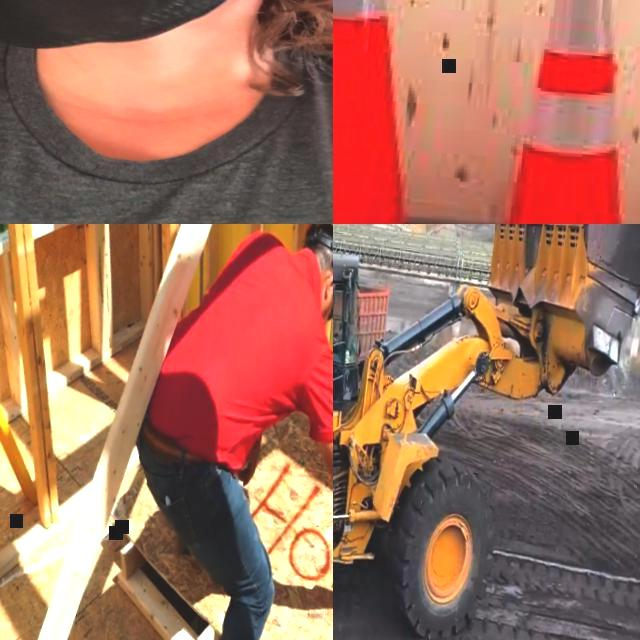helmet: (300, 224, 333, 318)
machinery: (333, 224, 640, 640), (333, 250, 399, 383)
mask: (0, 0, 298, 68)
no_vest: (0, 6, 333, 224), (146, 224, 332, 473)
person: (104, 224, 333, 640), (0, 0, 333, 224), (333, 288, 348, 357)
safety_cone: (451, 0, 640, 224), (333, 0, 494, 224)
